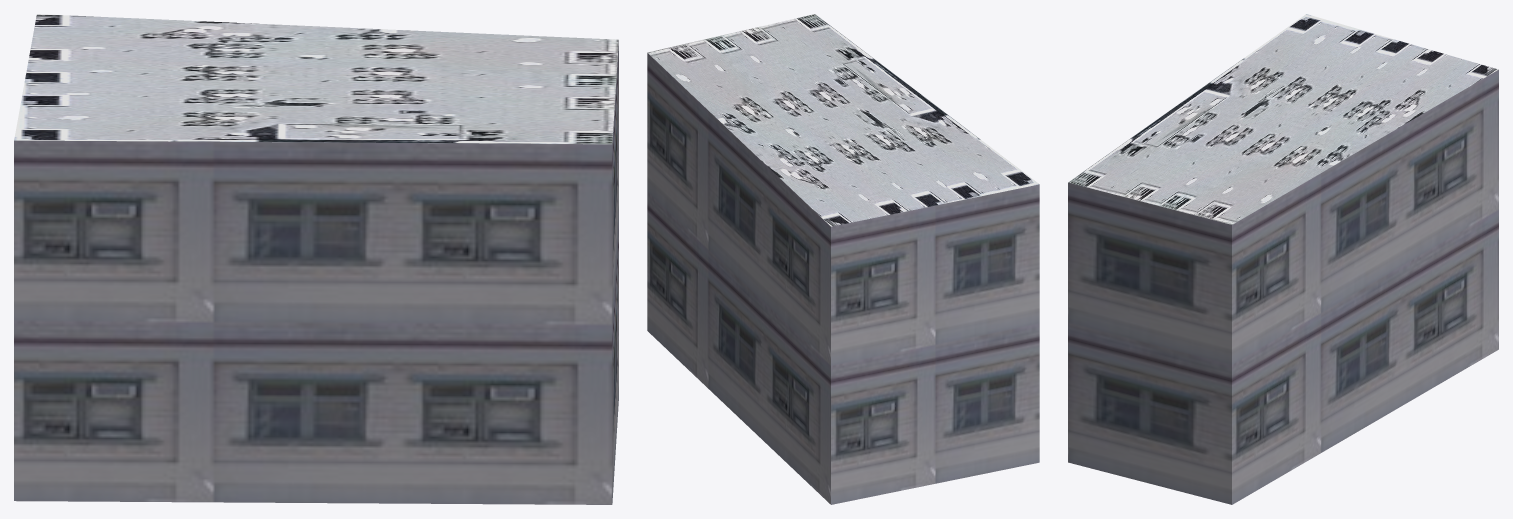
Rendered from ResTex__4257.fbx.
3 views of the same model, side by side, from view 1: azimuth 30°, elevation 25°; view 2: azimuth 150°, elevation 25°; view 3: azimuth 270°, elevation 25° (orthographic). The views are drawn at different scales.
Visible parts, largest first — view 1: CityEngineMaterial_1_m, CityEngineMaterial_m; view 2: CityEngineMaterial_1_m, CityEngineMaterial_m; view 3: CityEngineMaterial_1_m, CityEngineMaterial_m.
Part boxes in pixels (x1=…): CityEngineMaterial_1_m: x1=14, y1=40, x2=618, y2=504; CityEngineMaterial_m: x1=14, y1=14, x2=618, y2=144; CityEngineMaterial_1_m: x1=647, y1=53, x2=1039, y2=504; CityEngineMaterial_m: x1=647, y1=14, x2=1039, y2=226; CityEngineMaterial_1_m: x1=1068, y1=69, x2=1498, y2=504; CityEngineMaterial_m: x1=1068, y1=14, x2=1498, y2=224.
Bounding box in the file's own units: 9.7 × 6 × 8.37.
Materials: 2 (2 with a texture image).
